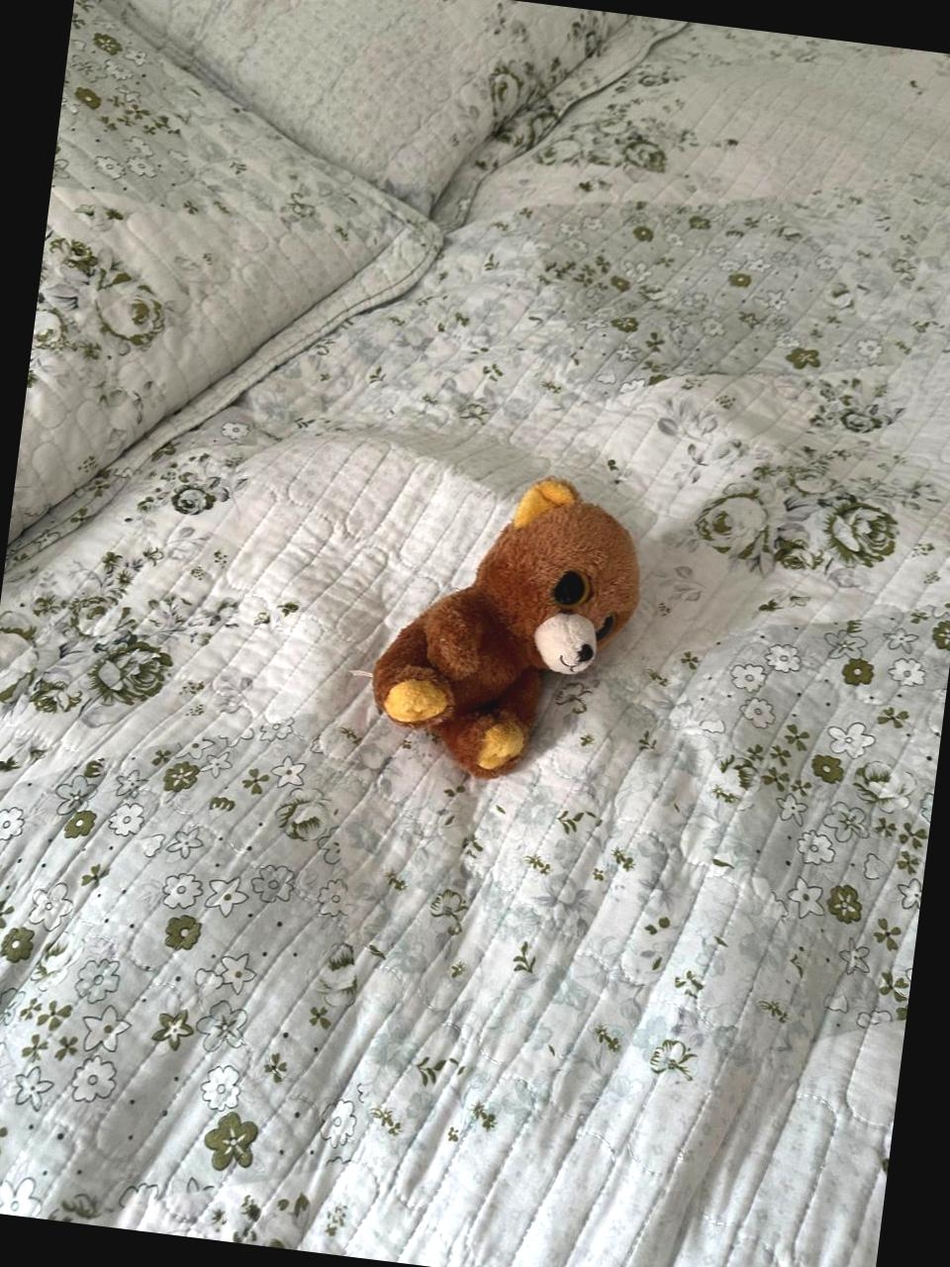peluche_sebastian: (351, 455, 657, 781)
